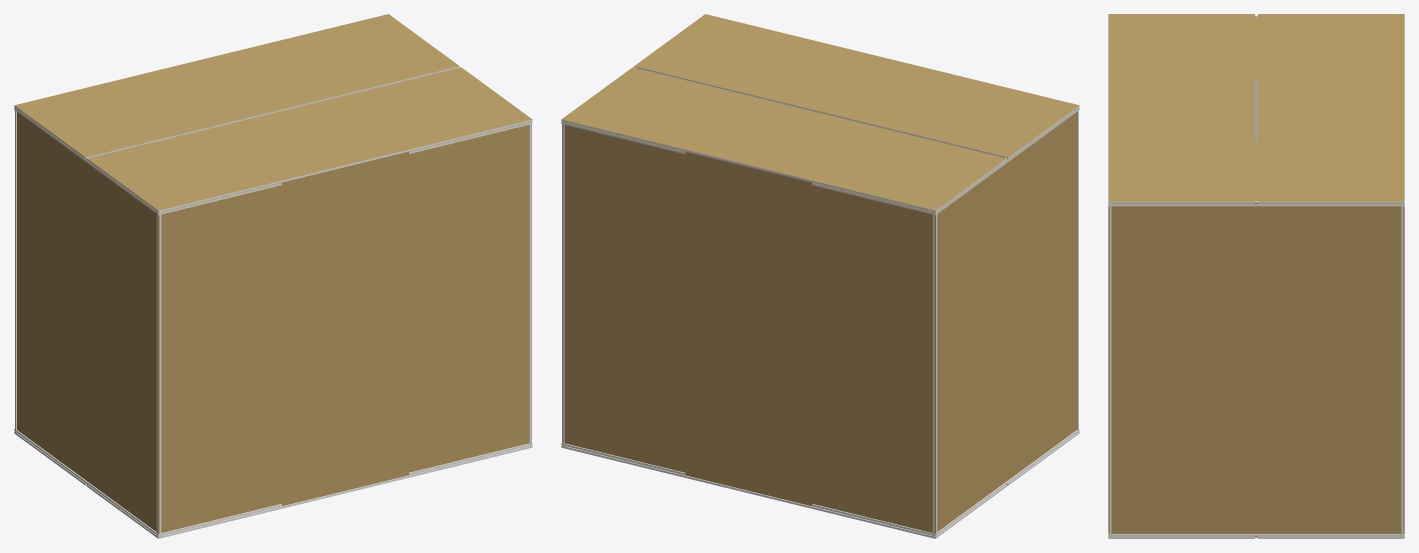
3 renders of one model, left to right at view 1: azimuth 30°, elevation 25°; view 2: azimuth 150°, elevation 25°; view 3: azimuth 270°, elevation 25°, orthographic. The views are drawn at different scales.
Parts seen in each view (by area): view 1: Packive_Box_fefco0201; view 2: Packive_Box_fefco0201; view 3: Packive_Box_fefco0201.
Part boxes in pixels (x1,y1,x2,y2): Packive_Box_fefco0201: (14, 14, 532, 538); Packive_Box_fefco0201: (561, 14, 1079, 538); Packive_Box_fefco0201: (1108, 14, 1404, 538).
Size of the model in its own units: 0.3 by 0.2515 by 0.2.
24 materials, 12 textured.
